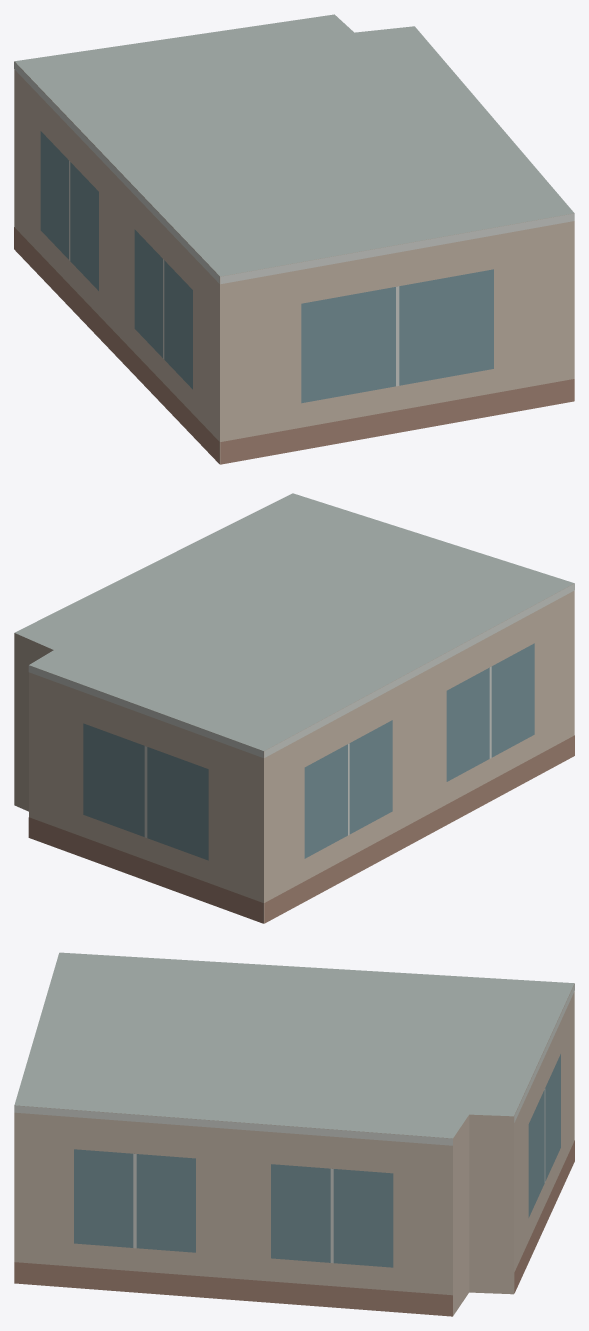
The model's file is survey-upis-32475339.glb.
The picture shows the model from 3 angles, top to bottom: view 1: azimuth 30°, elevation 25°; view 2: azimuth 150°, elevation 25°; view 3: azimuth 270°, elevation 25°; orthographic projection. The views are drawn at different scales.
Visible parts, largest first — view 1: survey-upis-32475339.tmp; view 2: survey-upis-32475339.tmp; view 3: survey-upis-32475339.tmp.
Boxes of the visible parts, x1,y1,x2,y2 form: survey-upis-32475339.tmp: (14,14,574,464); survey-upis-32475339.tmp: (14,493,574,923); survey-upis-32475339.tmp: (14,952,574,1316).
Bounding box in the file's own units: 6.85 × 3.05 × 8.71.
